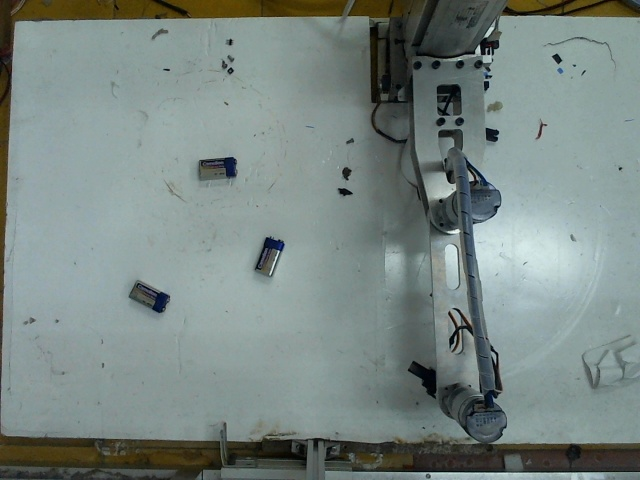battery: (125, 276, 174, 310), (253, 229, 283, 280), (193, 151, 240, 181)
